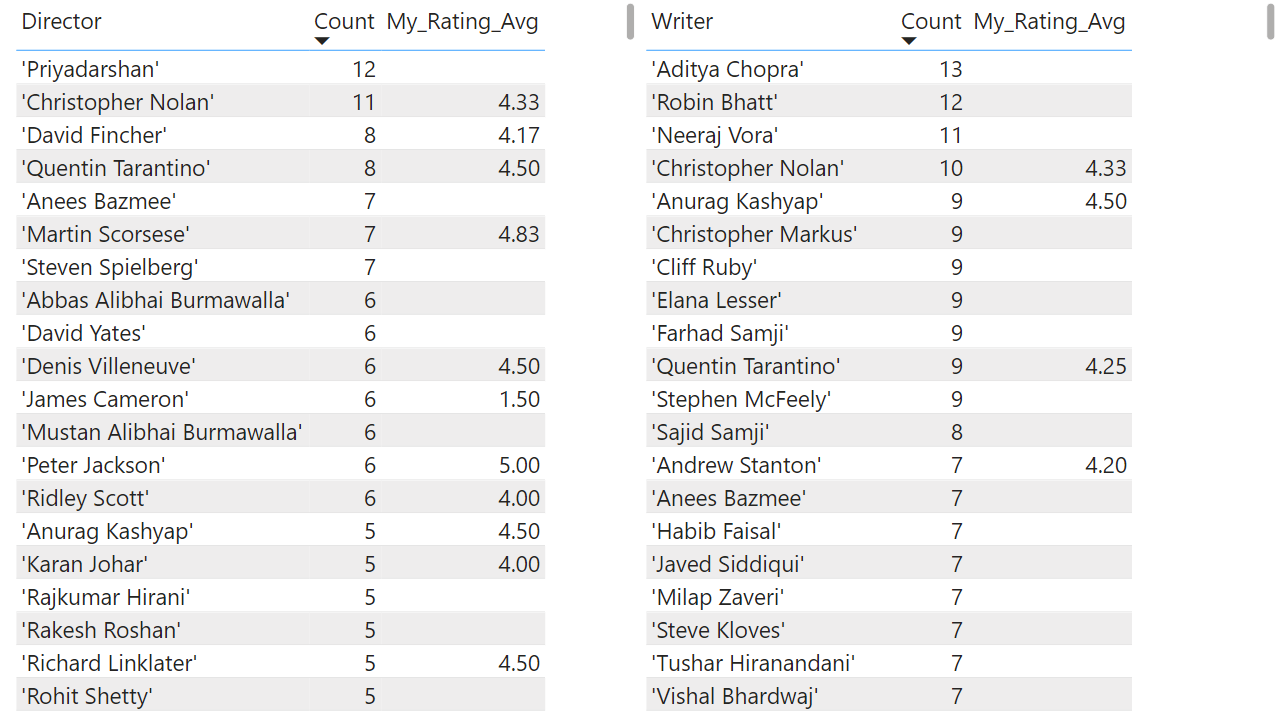

Layout of this report page (visuals, bound fields, positions):
{"tool":"powerbi","page":{"name":"Director & Writer","canvas":[1280,720],"ordinal":6},"visuals":[{"type":"tableEx","fields":{"Values":["Director.Director","Director.Count","Director.My_Rating_Avg"]},"box":[10,0,630,720],"z":0},{"type":"tableEx","fields":{"Values":["Writer.Writer","Writer.Count","Writer.My_Rating_Avg"]},"box":[640,0,640,720],"z":1000}]}

Visuals, with their boxes in screenshot pixels (x1, y1, x2, y2), scaled from the page's 1280x720 canvas onto the 1277x718 screenshot:
tableEx - Director.Director x Director.Count: region(10, 0, 638, 717)
tableEx - Writer.Writer x Writer.Count: region(638, 0, 1276, 717)
